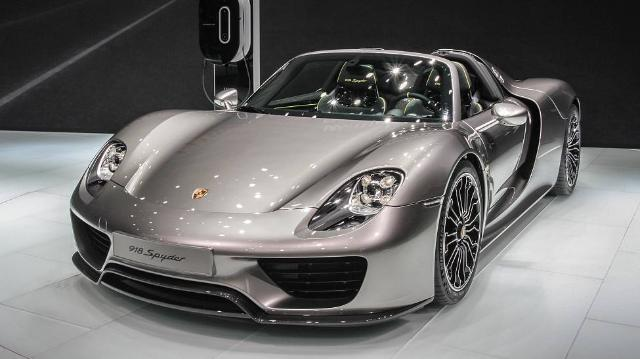porsche: (69, 48, 582, 328)
